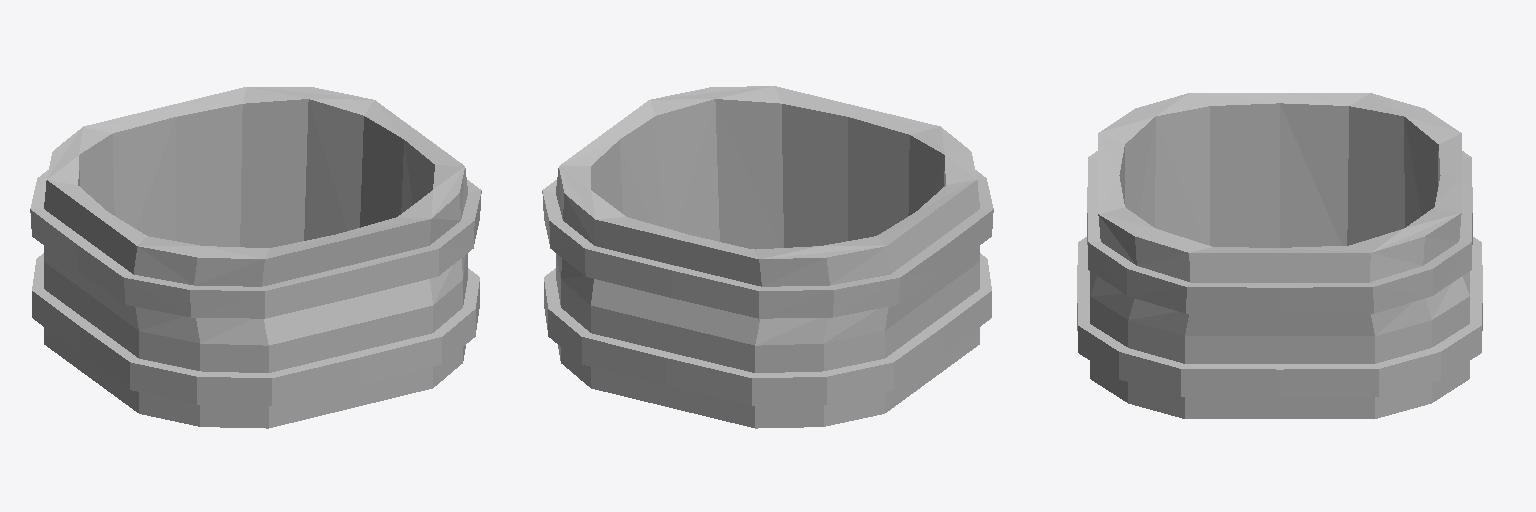
File: Quench Barrel.obj
3 renders of one model, left to right at view 1: azimuth 30°, elevation 25°; view 2: azimuth 150°, elevation 25°; view 3: azimuth 270°, elevation 25°, orthographic.
Visible parts, largest first — view 1: Quench_Barrel polySurface3, Quench_Barrel polySurface2, polySurface1 Quench_Barrel; view 2: Quench_Barrel polySurface3, Quench_Barrel polySurface2, polySurface1 Quench_Barrel; view 3: Quench_Barrel polySurface3, Quench_Barrel polySurface2, polySurface1 Quench_Barrel.
Boxes of the visible parts, box(x1,y1,x2,y2) form: Quench_Barrel polySurface3: box(44, 87, 467, 428); Quench_Barrel polySurface2: box(32, 253, 479, 405); polySurface1 Quench_Barrel: box(30, 170, 481, 318); Quench_Barrel polySurface3: box(556, 86, 979, 428); Quench_Barrel polySurface2: box(544, 253, 991, 405); polySurface1 Quench_Barrel: box(542, 170, 993, 318); Quench_Barrel polySurface3: box(1090, 93, 1469, 418); Quench_Barrel polySurface2: box(1077, 237, 1482, 396); polySurface1 Quench_Barrel: box(1087, 151, 1472, 313).
Bounding box in the file's own units: 8.45 × 3.75 × 8.25.